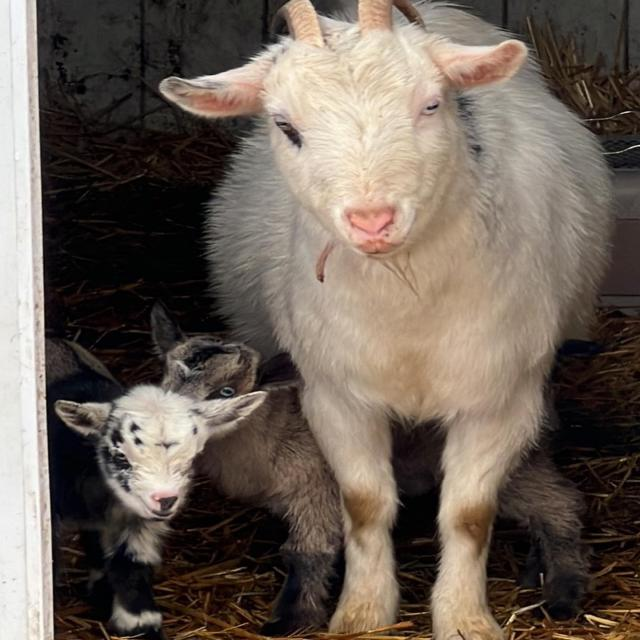goat: (154, 2, 620, 631), (62, 370, 236, 626)
